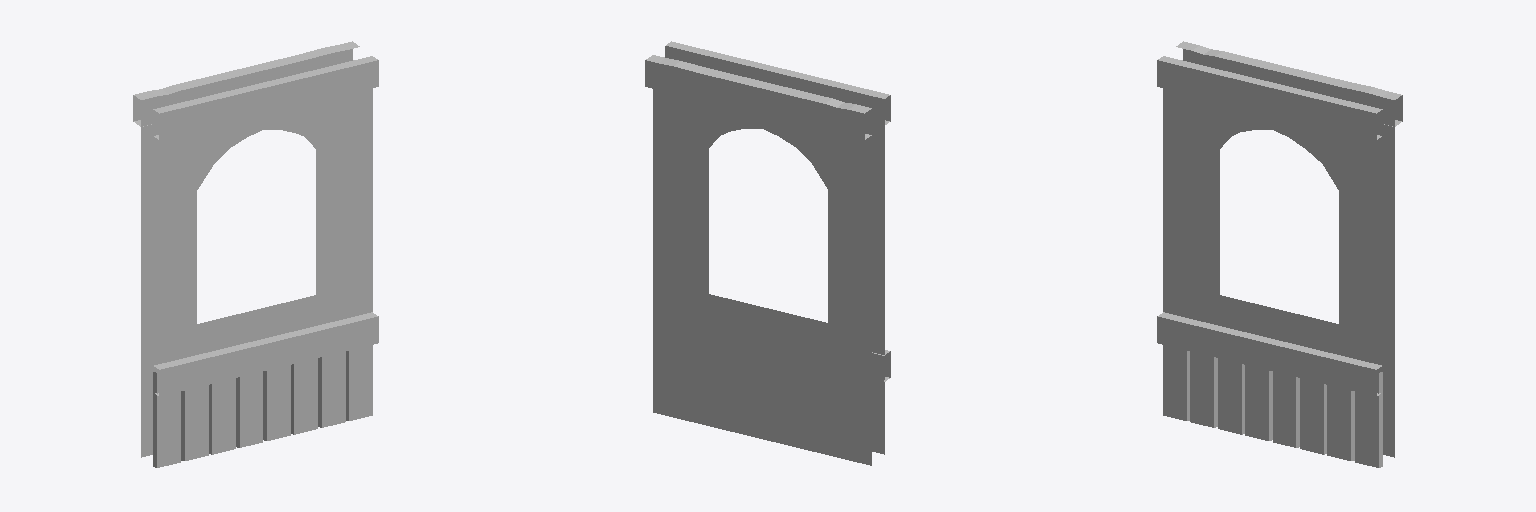
The model's file is Wall_WoodBrick_Window_Wide_Round.obj.
3 renders of one model, left to right at view 1: azimuth 30°, elevation 25°; view 2: azimuth 150°, elevation 25°; view 3: azimuth 330°, elevation 25°, orthographic.
Visible parts, largest first — view 1: Wall_WoodBrick_Window_Wide_Round; view 2: Wall_WoodBrick_Window_Wide_Round; view 3: Wall_WoodBrick_Window_Wide_Round.
Part boxes in pixels (left/top/right/bottom): Wall_WoodBrick_Window_Wide_Round: left=133, top=41, right=378, bottom=467; Wall_WoodBrick_Window_Wide_Round: left=645, top=41, right=890, bottom=465; Wall_WoodBrick_Window_Wide_Round: left=1157, top=41, right=1402, bottom=467.
Size of the model in its own units: 2 by 3.12 by 0.4065.